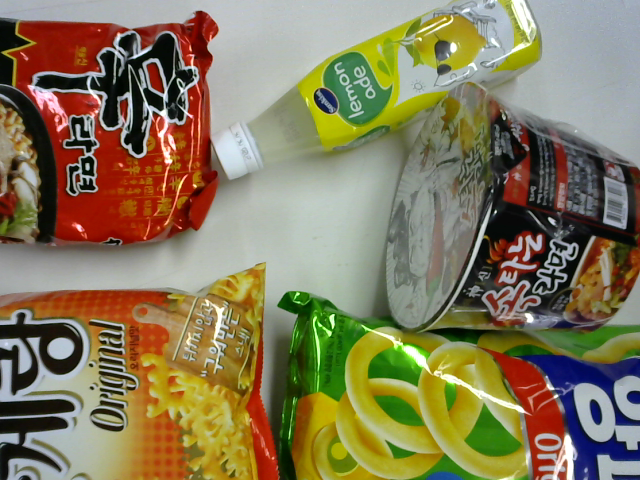Crabrang: (1, 260, 287, 478)
HeJangsock: (380, 93, 640, 330)
Oninon_Ring: (244, 288, 640, 478)
Sinramen: (1, 23, 224, 243)
Sunkist_Lemonaid_Pet: (204, 1, 562, 192)
